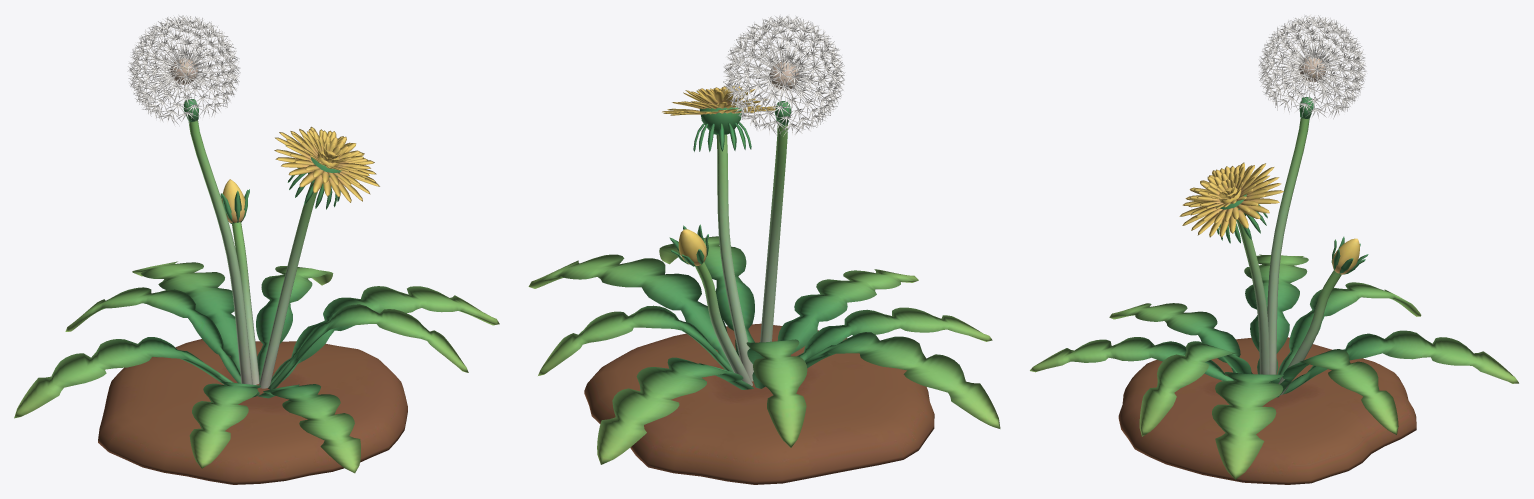
File: dandelion.glb
The picture shows the model from 3 angles, left to right: view 1: azimuth 30°, elevation 25°; view 2: azimuth 150°, elevation 25°; view 3: azimuth 270°, elevation 25°; orthographic projection. The views are drawn at different scales.
Visible parts, largest first — view 1: dandelion.001; view 2: dandelion.001; view 3: dandelion.001.
Part boxes in pixels (left/top/right/bottom): dandelion.001: left=14, top=15, right=499, bottom=484; dandelion.001: left=528, top=15, right=1000, bottom=484; dandelion.001: left=1030, top=14, right=1518, bottom=484.
Bounding box in the file's own units: 1.23 × 1 × 1.18.
Materials: 2 (1 with a texture image).
